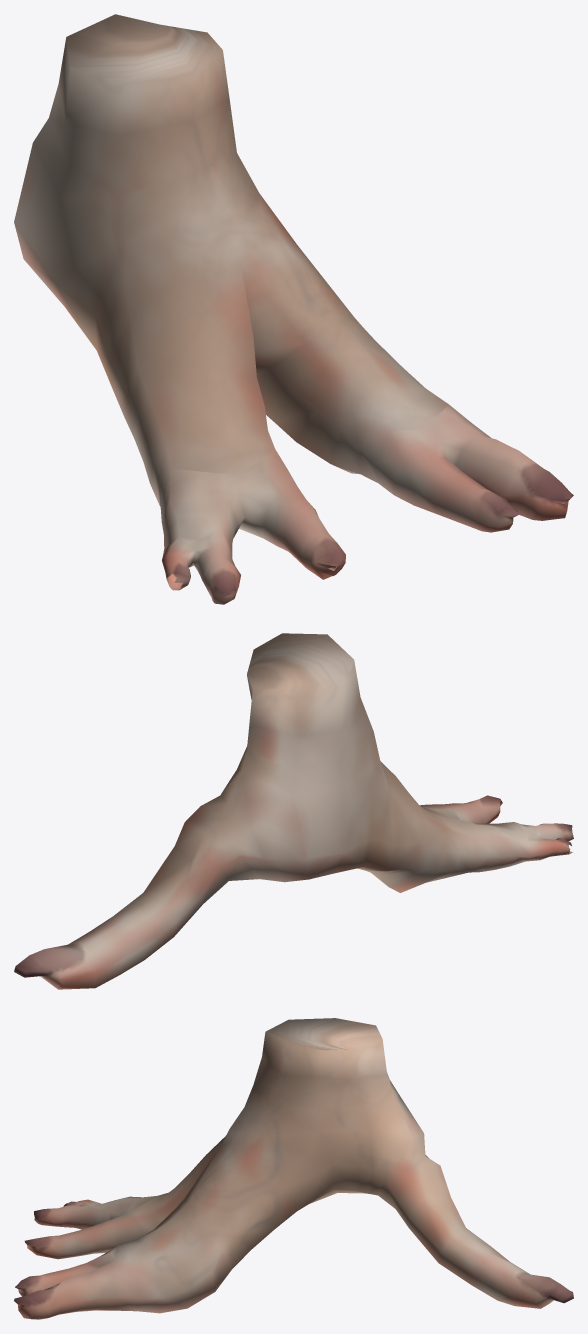
Rendered from FootR (1).fbx.
3 renders of one model, top to bottom at view 1: azimuth 30°, elevation 25°; view 2: azimuth 150°, elevation 25°; view 3: azimuth 270°, elevation 25°, orthographic. The views are drawn at different scales.
Parts seen in each view (by area): view 1: UmeriCraci_low.004; view 2: UmeriCraci_low.004; view 3: UmeriCraci_low.004.
Boxes of the visible parts, left/top/right/bottom form: UmeriCraci_low.004: left=14, top=14, right=573, bottom=604; UmeriCraci_low.004: left=14, top=633, right=573, bottom=989; UmeriCraci_low.004: left=14, top=1018, right=573, bottom=1319.
Size of the model in its own units: 73.21 by 36.19 by 34.91.
